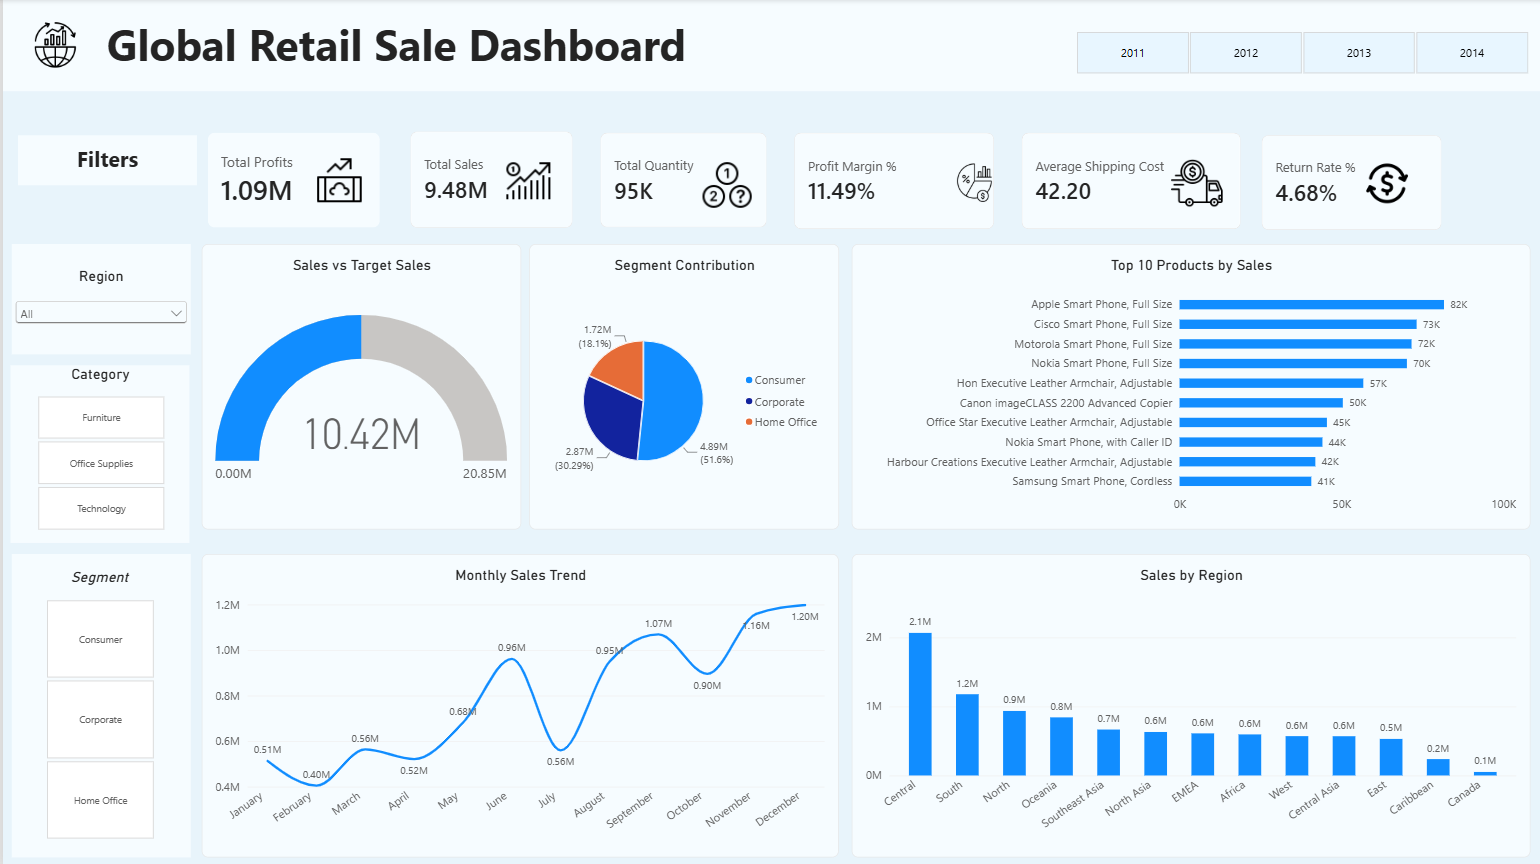

The page's visual inventory and layout, read from the dashboard file:
{"tool":"powerbi","page":{"name":"Global Retail Sale Dashboard","canvas":[1920,1080],"ordinal":0},"visuals":[{"type":"textbox","box":[130,0,1790,112.5],"z":0},{"type":"shape","box":[0,0,1920,115],"z":1000},{"type":"textbox","box":[130,20,896,92],"z":2000},{"type":"slicer","fields":{"Values":["Master Orders Table.Year"]},"box":[1318.5,38.9,601.9,55.6],"z":3000},{"type":"cardVisual","fields":{"Data":["Master Orders Table.Total Profits"]},"box":[256.4,167.4,214.5,118.6],"z":4000},{"type":"cardVisual","fields":{"Data":["Master Orders Table.Total Sales"]},"box":[507.6,165.7,202.3,120.3],"z":5000},{"type":"image","box":[607,195.3,97.7,62.8],"z":6000},{"type":"image","box":[364.5,195.3,109.9,62.8],"z":7000},{"type":"cardVisual","fields":{"Data":["Master Orders Table.Total Quantity"]},"box":[744.8,167.4,207.6,118.6],"z":8000},{"type":"image","box":[854.7,198.8,97.7,64.5],"z":9000},{"type":"cardVisual","fields":{"Data":["Master Orders Table.Profit Margin %"]},"box":[987.2,167.4,249.4,120.3],"z":10000},{"type":"image","box":[1186,198.8,50.6,59.3],"z":11000},{"type":"cardVisual","title":"Shipping Cost","fields":{"Data":["Master Orders Table.Average Shipping Cost"]},"box":[1269.8,167.4,273.8,120.3],"z":12000},{"type":"image","box":[1407.6,197.1,162.2,66.3],"z":13000},{"type":"lineChart","title":"Monthly Sales Trend","fields":{"Category":["Master Orders Table.Order Date Month Name"],"Y":["Sum(Master Orders Table.Sales)"]},"box":[248,692,794,378],"z":14000},{"type":"gauge","title":"Sales vs Target Sales","fields":{"Y":["Master Orders Table.Sales Target"]},"box":[248,306,398,356],"z":15000},{"type":"pieChart","title":"Segment Contribution","fields":{"Category":["Master Orders Table.Segment"],"Y":["Sum(Master Orders Table.Sales)"]},"box":[656,306,386,356],"z":16000},{"type":"barChart","title":"Top 10 Products by Sales","fields":{"Category":["Master Orders Table.Product Name"],"Y":["Master Orders Table.Total Sales"]},"box":[1058,306,846,356],"z":17000},{"type":"cardVisual","fields":{"Data":["Master Orders Table.Return Rate %"]},"box":[1570,170,224,118],"z":18000},{"type":"image","box":[1678,198,98,64],"z":19000},{"type":"image","box":[0,28,130,58],"z":20000},{"type":"clusteredColumnChart","title":"Sales by Region","fields":{"Category":["Master Orders Table.Region"],"Y":["Sum(Master Orders Table.Sales)"]},"box":[1058,692,846,378],"z":21000},{"type":"shape","box":[19.2,169.2,223.3,62.8],"z":22000},{"type":"textbox","box":[19.2,181.4,223.3,50.6],"z":23000},{"type":"shape","box":[10.5,305.2,223.3,137.8],"z":24000},{"type":"shape","box":[10,456.7,223.3,221.7],"z":25000},{"type":"shape","box":[10.5,692.4,223.3,378.5],"z":26000},{"type":"slicer","title":"Region","fields":{"Values":["Master Orders Table.Region"]},"box":[10.5,334.9,223.3,82],"z":27000},{"type":"slicer","title":"Category","fields":{"Values":["Master Orders Table.Category"]},"box":[23.3,456.7,196.7,206.7],"z":28000},{"type":"slicer","title":"Segment","fields":{"Values":["Master Orders Table.Segment"]},"box":[34.9,711.6,172.7,338.4],"z":29000}]}

Visuals, with their boxes in screenshot pixels (x1, y1, x2, y2), scaled from the page's 1920x1080 canvas onto the 1540x864 screenshot:
textbox: (left=104, top=0, right=1539, bottom=90)
shape: (left=0, top=0, right=1539, bottom=92)
textbox: (left=104, top=16, right=823, bottom=90)
slicer - Master Orders Table.Year: (left=1058, top=31, right=1539, bottom=76)
cardVisual - Master Orders Table.Total Profits: (left=206, top=134, right=378, bottom=229)
cardVisual - Master Orders Table.Total Sales: (left=407, top=133, right=569, bottom=229)
image: (left=487, top=156, right=565, bottom=206)
image: (left=292, top=156, right=381, bottom=206)
cardVisual - Master Orders Table.Total Quantity: (left=597, top=134, right=764, bottom=229)
image: (left=686, top=159, right=764, bottom=211)
cardVisual - Master Orders Table.Profit Margin %: (left=792, top=134, right=992, bottom=230)
image: (left=951, top=159, right=992, bottom=206)
"Shipping Cost" cardVisual: (left=1018, top=134, right=1238, bottom=230)
image: (left=1129, top=158, right=1259, bottom=211)
"Monthly Sales Trend" lineChart: (left=199, top=554, right=836, bottom=856)
"Sales vs Target Sales" gauge: (left=199, top=245, right=518, bottom=530)
"Segment Contribution" pieChart: (left=526, top=245, right=836, bottom=530)
"Top 10 Products by Sales" barChart: (left=849, top=245, right=1527, bottom=530)
cardVisual - Master Orders Table.Return Rate %: (left=1259, top=136, right=1439, bottom=230)
image: (left=1346, top=158, right=1424, bottom=210)
image: (left=0, top=22, right=104, bottom=69)
"Sales by Region" clusteredColumnChart: (left=849, top=554, right=1527, bottom=856)
shape: (left=15, top=135, right=195, bottom=186)
textbox: (left=15, top=145, right=195, bottom=186)
shape: (left=8, top=244, right=188, bottom=354)
shape: (left=8, top=365, right=187, bottom=543)
shape: (left=8, top=554, right=188, bottom=857)
"Region" slicer: (left=8, top=268, right=188, bottom=334)
"Category" slicer: (left=19, top=365, right=176, bottom=531)
"Segment" slicer: (left=28, top=569, right=167, bottom=840)
